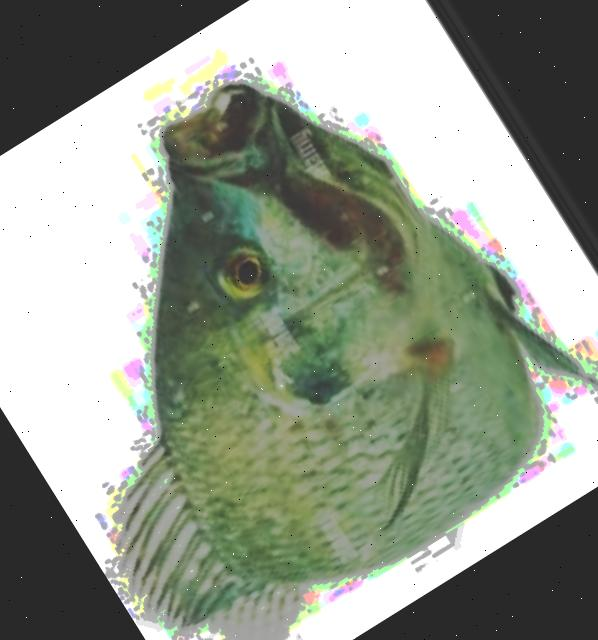Healthy Fish: (115, 77, 586, 640)
